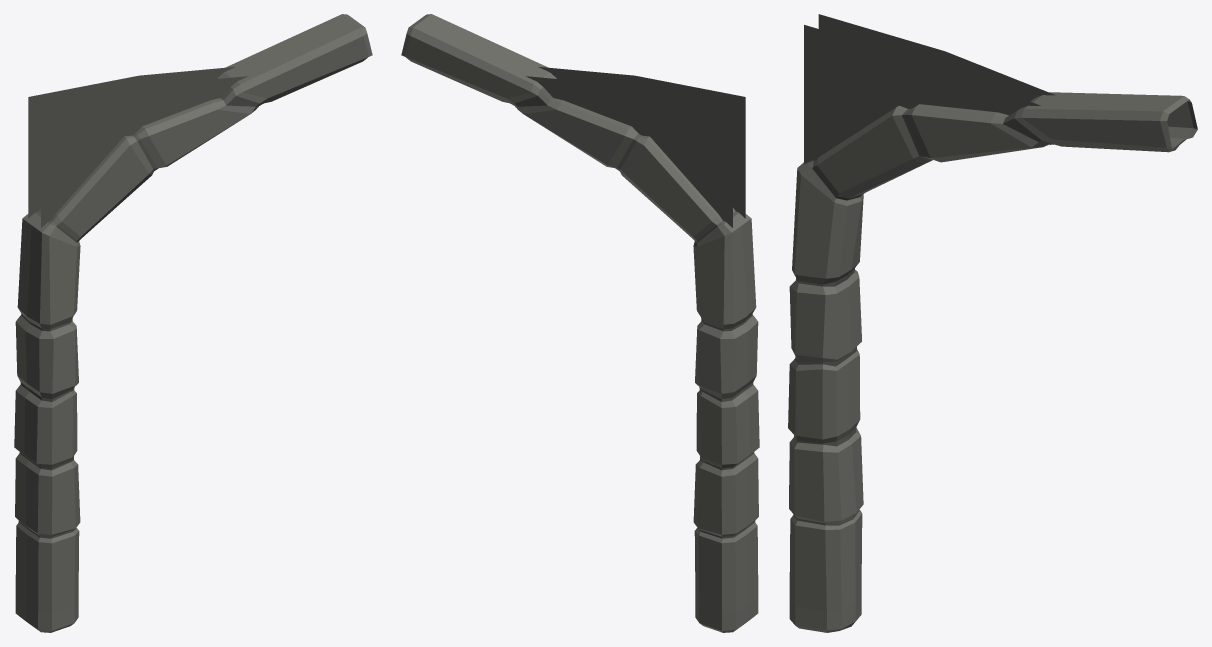
Rendered from HoleFix_Half.glb.
3 renders of one model, left to right at view 1: azimuth 30°, elevation 25°; view 2: azimuth 150°, elevation 25°; view 3: azimuth 330°, elevation 25°, orthographic. The views are drawn at different scales.
Parts seen in each view (by area): view 1: HoleFix_Half.001; view 2: HoleFix_Half.001; view 3: HoleFix_Half.001.
Boxes of the visible parts, bbox=[...] form: HoleFix_Half.001: bbox=[14, 14, 372, 632]; HoleFix_Half.001: bbox=[401, 14, 759, 632]; HoleFix_Half.001: bbox=[788, 14, 1197, 632].
Size of the model in its own units: 3.04 by 4.54 by 0.5101.
Materials: 1 (1 with a texture image).
